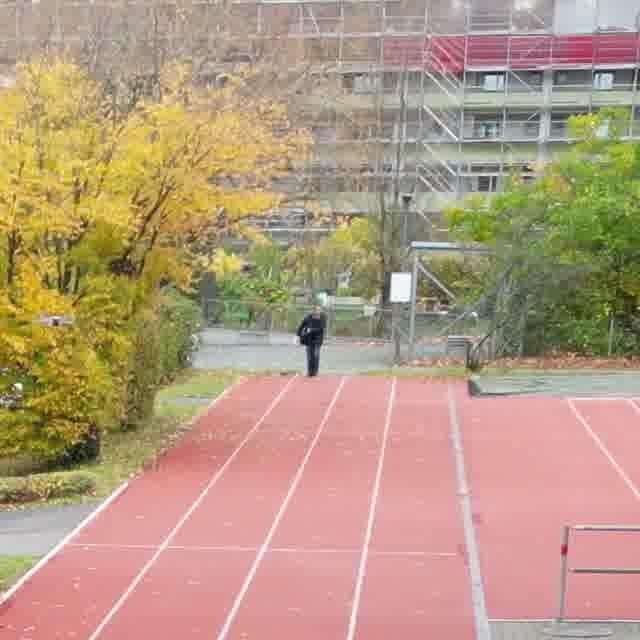Drohne: (40, 315, 73, 326)
